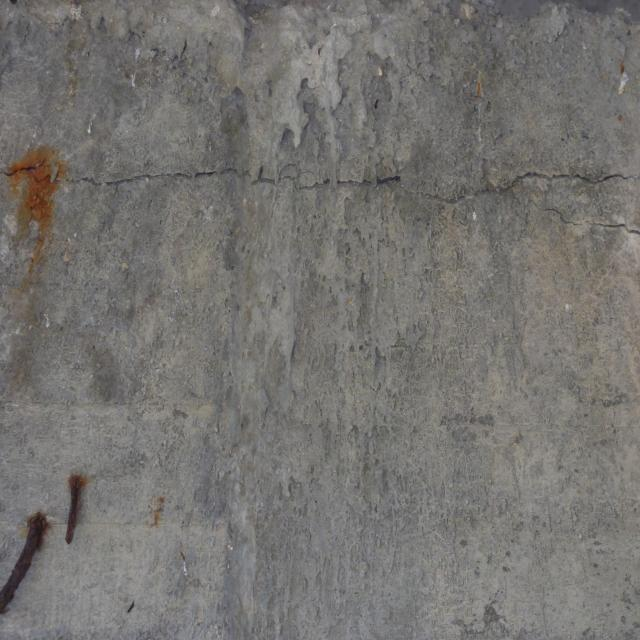corrosion: (0, 127, 88, 314), (0, 471, 97, 628), (146, 483, 174, 548)
